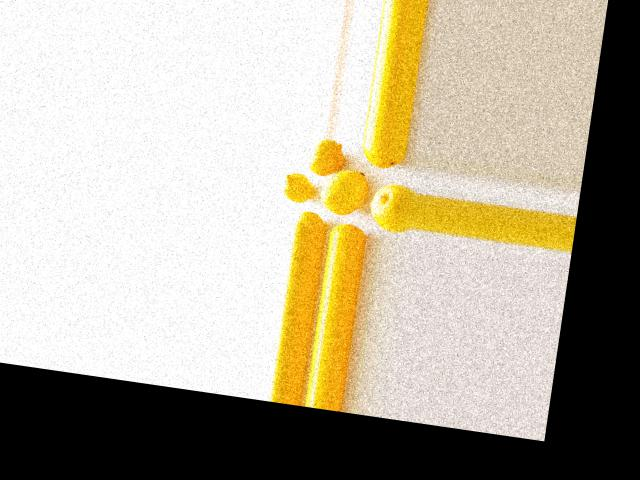lemon: (353, 143, 400, 174)
